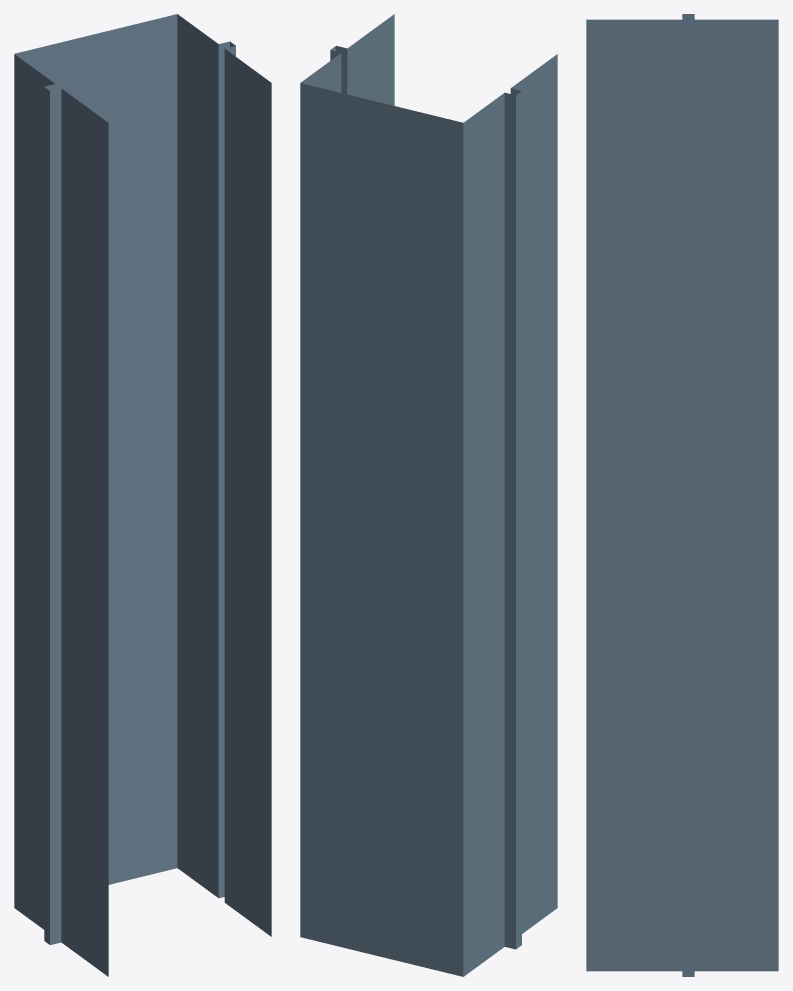
The model's file is Wall_Connector.fbx.
3 renders of one model, left to right at view 1: azimuth 30°, elevation 25°; view 2: azimuth 150°, elevation 25°; view 3: azimuth 270°, elevation 25°, orthographic.
Parts seen in each view (by area): view 1: Connector; view 2: Connector; view 3: Connector.
Part boxes in pixels (bbox=[...]): Connector: bbox=[14, 14, 271, 976]; Connector: bbox=[300, 14, 557, 976]; Connector: bbox=[586, 14, 778, 976].
Bounding box in the file's own units: 114 × 500 × 100.
